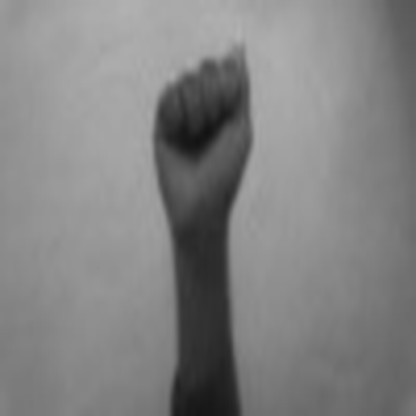a: (148, 35, 258, 227)
